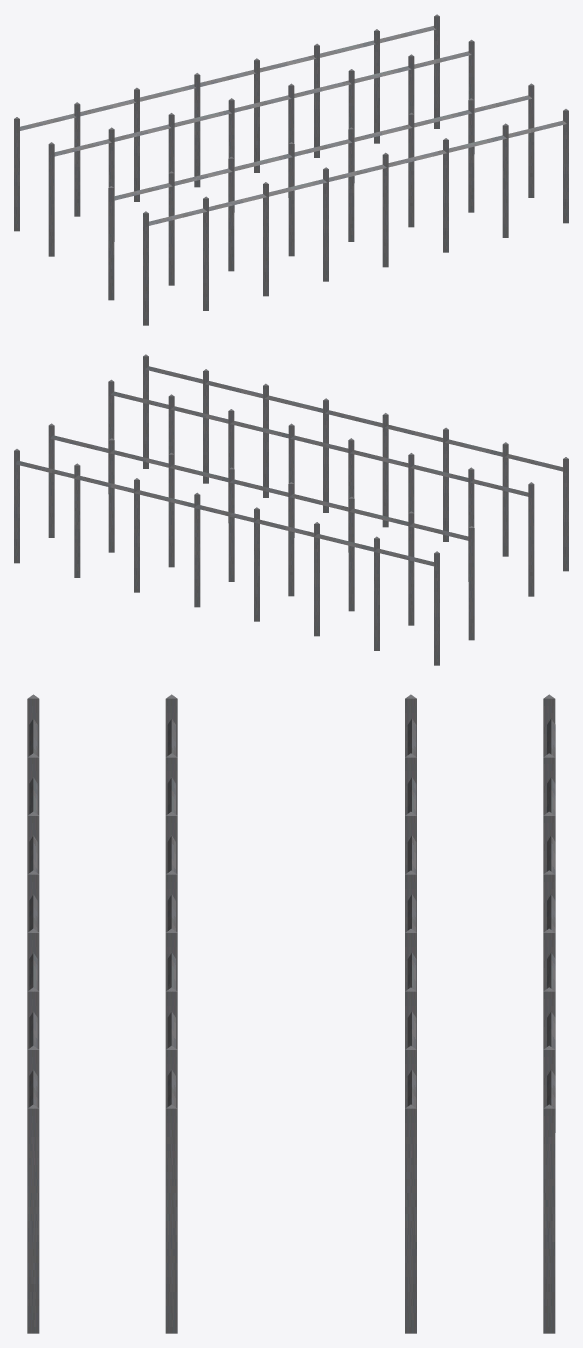
File: lod_subst_grid.obj
The picture shows the model from 3 angles, top to bottom: view 1: azimuth 30°, elevation 25°; view 2: azimuth 150°, elevation 25°; view 3: azimuth 270°, elevation 25°; orthographic projection. The views are drawn at different scales.
Visible parts, largest first — view 1: lod_subst_grid; view 2: lod_subst_grid; view 3: lod_subst_grid.
Part boxes in pixels (x1,y1,x2,y2): lod_subst_grid: (14, 14, 568, 325); lod_subst_grid: (14, 354, 568, 665); lod_subst_grid: (27, 694, 555, 1333).
Size of the model in its own units: 21.97 by 5.56 by 11.83.
Materials: 1 (1 with a texture image).
